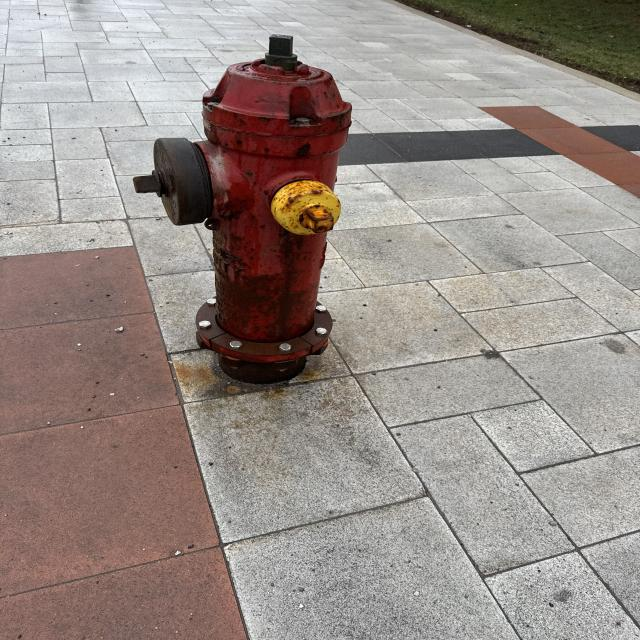Fire hydrant: (132, 34, 353, 385)
